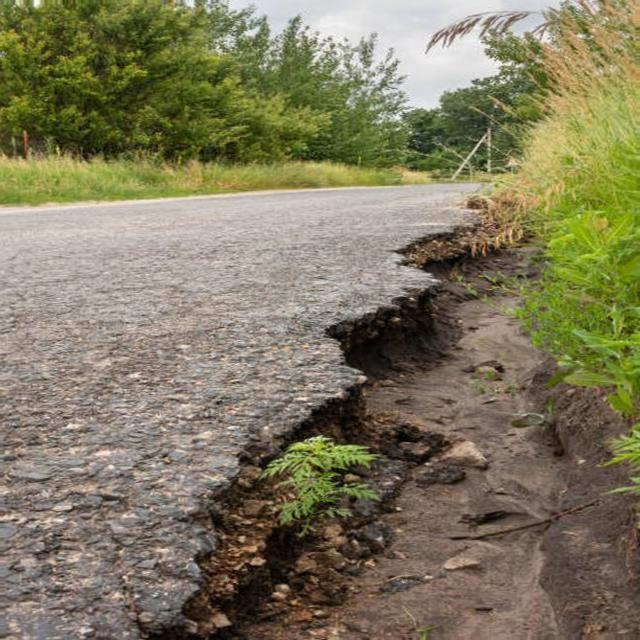Pinggir: (152, 198, 517, 640)
